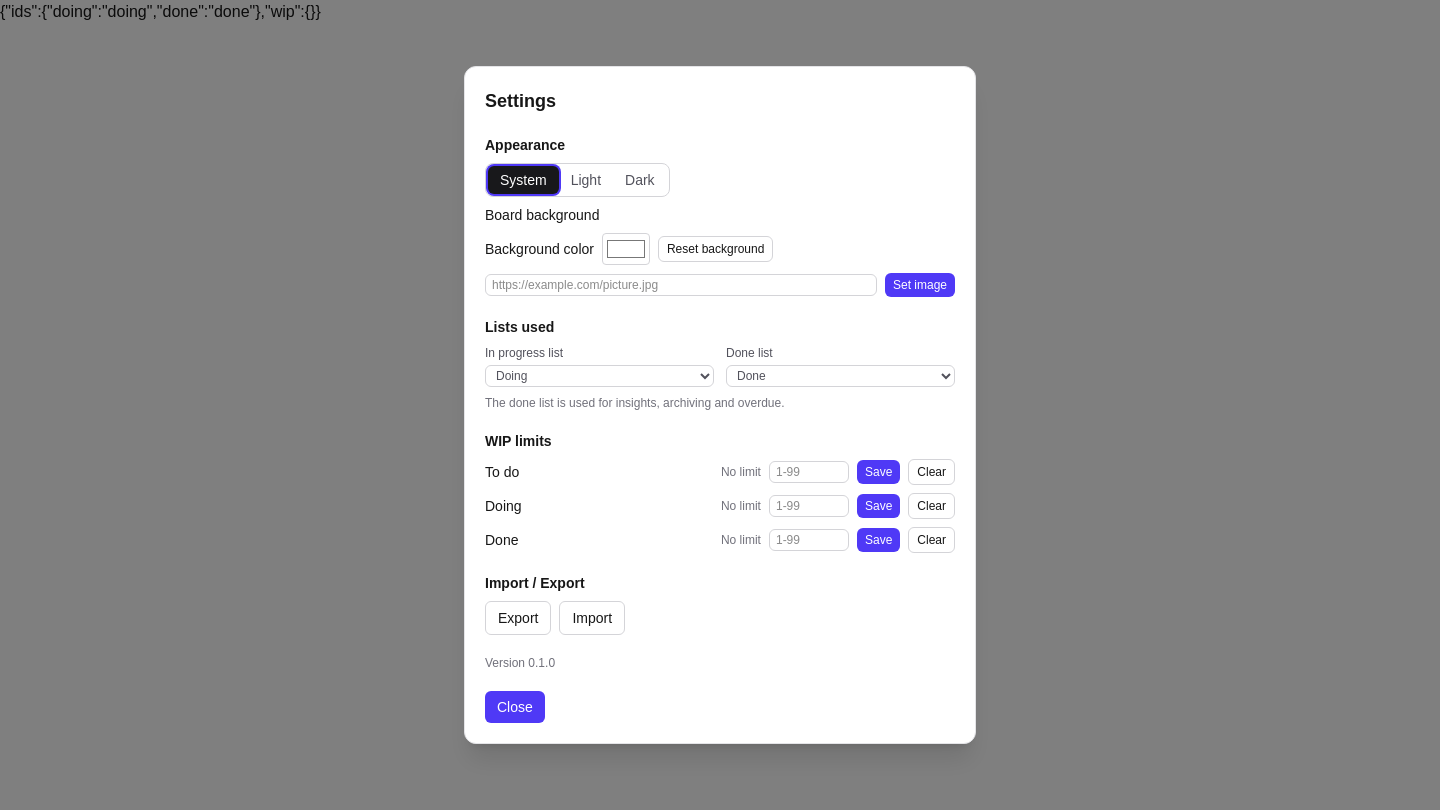
<SettingsPanel /> › saves and clears a WIP limit
This screenshot has width=1440, height=810.
Type "4" into the field named "WIP limit for Doing".
click(809, 506); type("4")  # box [769, 495, 849, 517]
Then press Enter
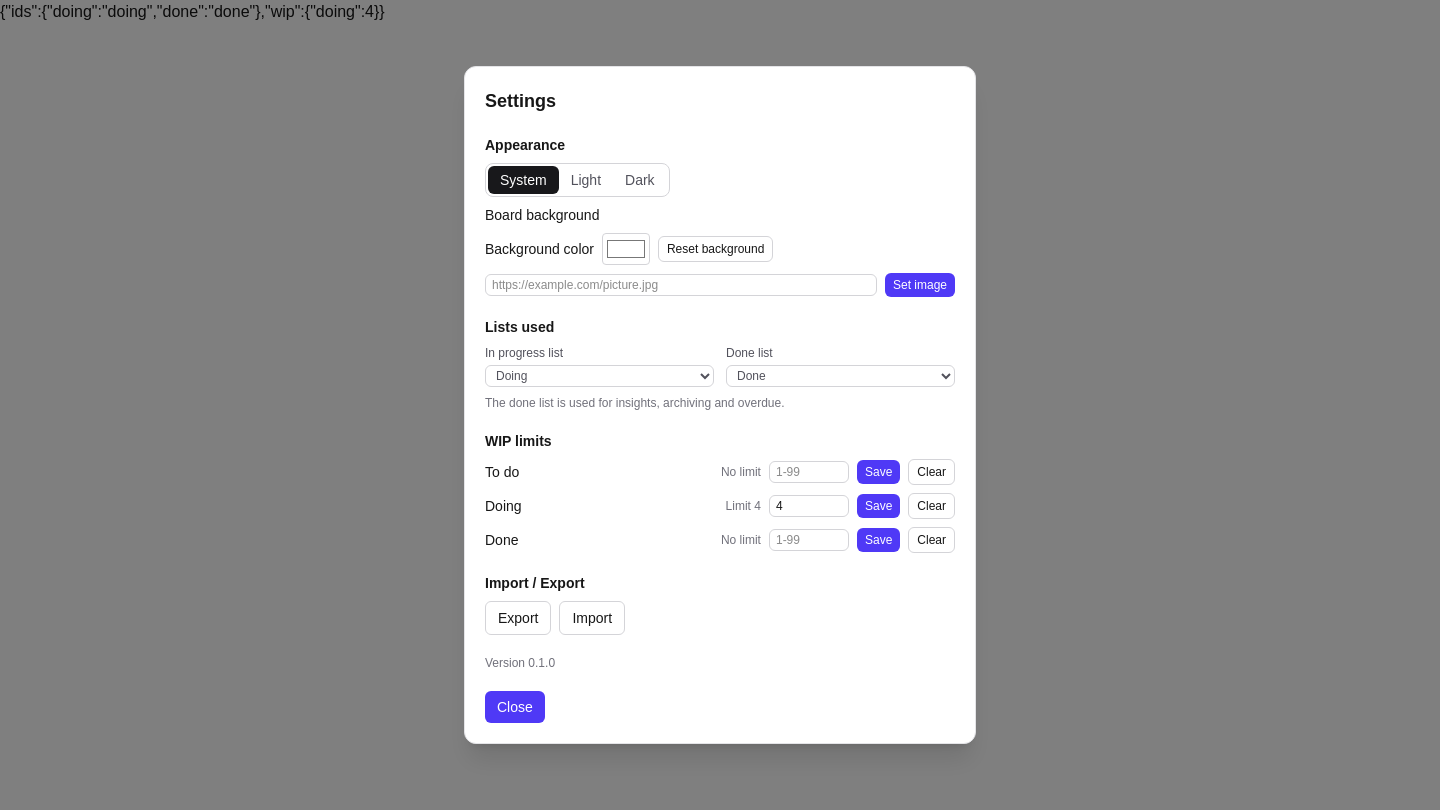
Expected: the text "Limit 4" is shown, [726, 498, 761, 514]
Click the button with aria-label "Clear WIP limit for Doing".
click(932, 506)  # box [908, 493, 955, 519]
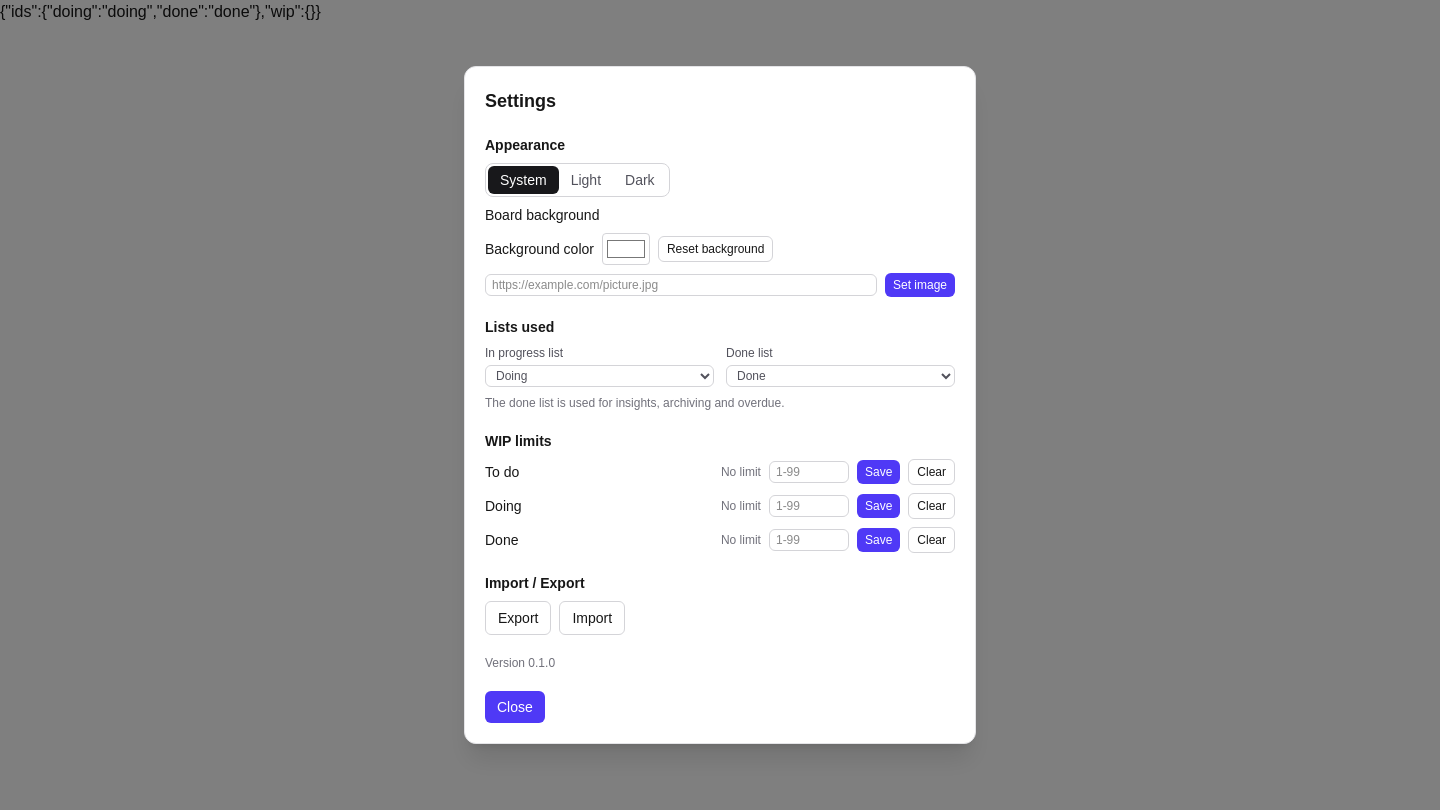
Expected: the field named "WIP limit for Doing" is empty, [769, 495, 849, 517]
